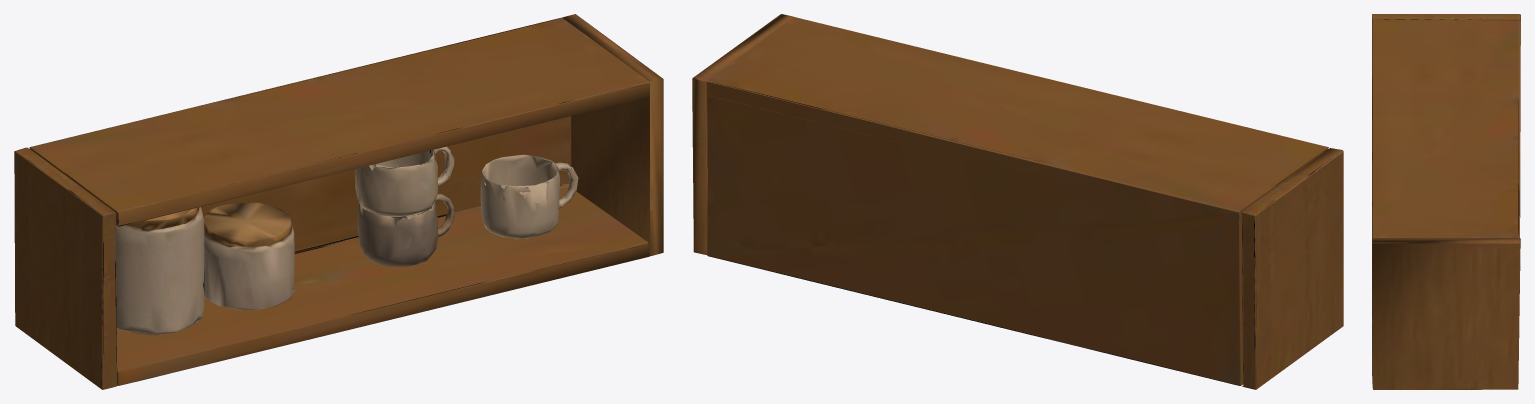
Rendered from mobile.glb.
3 renders of one model, left to right at view 1: azimuth 30°, elevation 25°; view 2: azimuth 150°, elevation 25°; view 3: azimuth 270°, elevation 25°, orthographic. The views are drawn at different scales.
Visible parts, largest first — view 1: wallshelf; view 2: wallshelf; view 3: wallshelf.
Boxes of the visible parts, x1,y1,x2,y2 form: wallshelf: (14, 14, 663, 389); wallshelf: (692, 14, 1343, 389); wallshelf: (1372, 14, 1520, 389).
Bounding box in the file's own units: 0.8993 × 0.2683 × 0.2461.
Materials: 1 (1 with a texture image).
